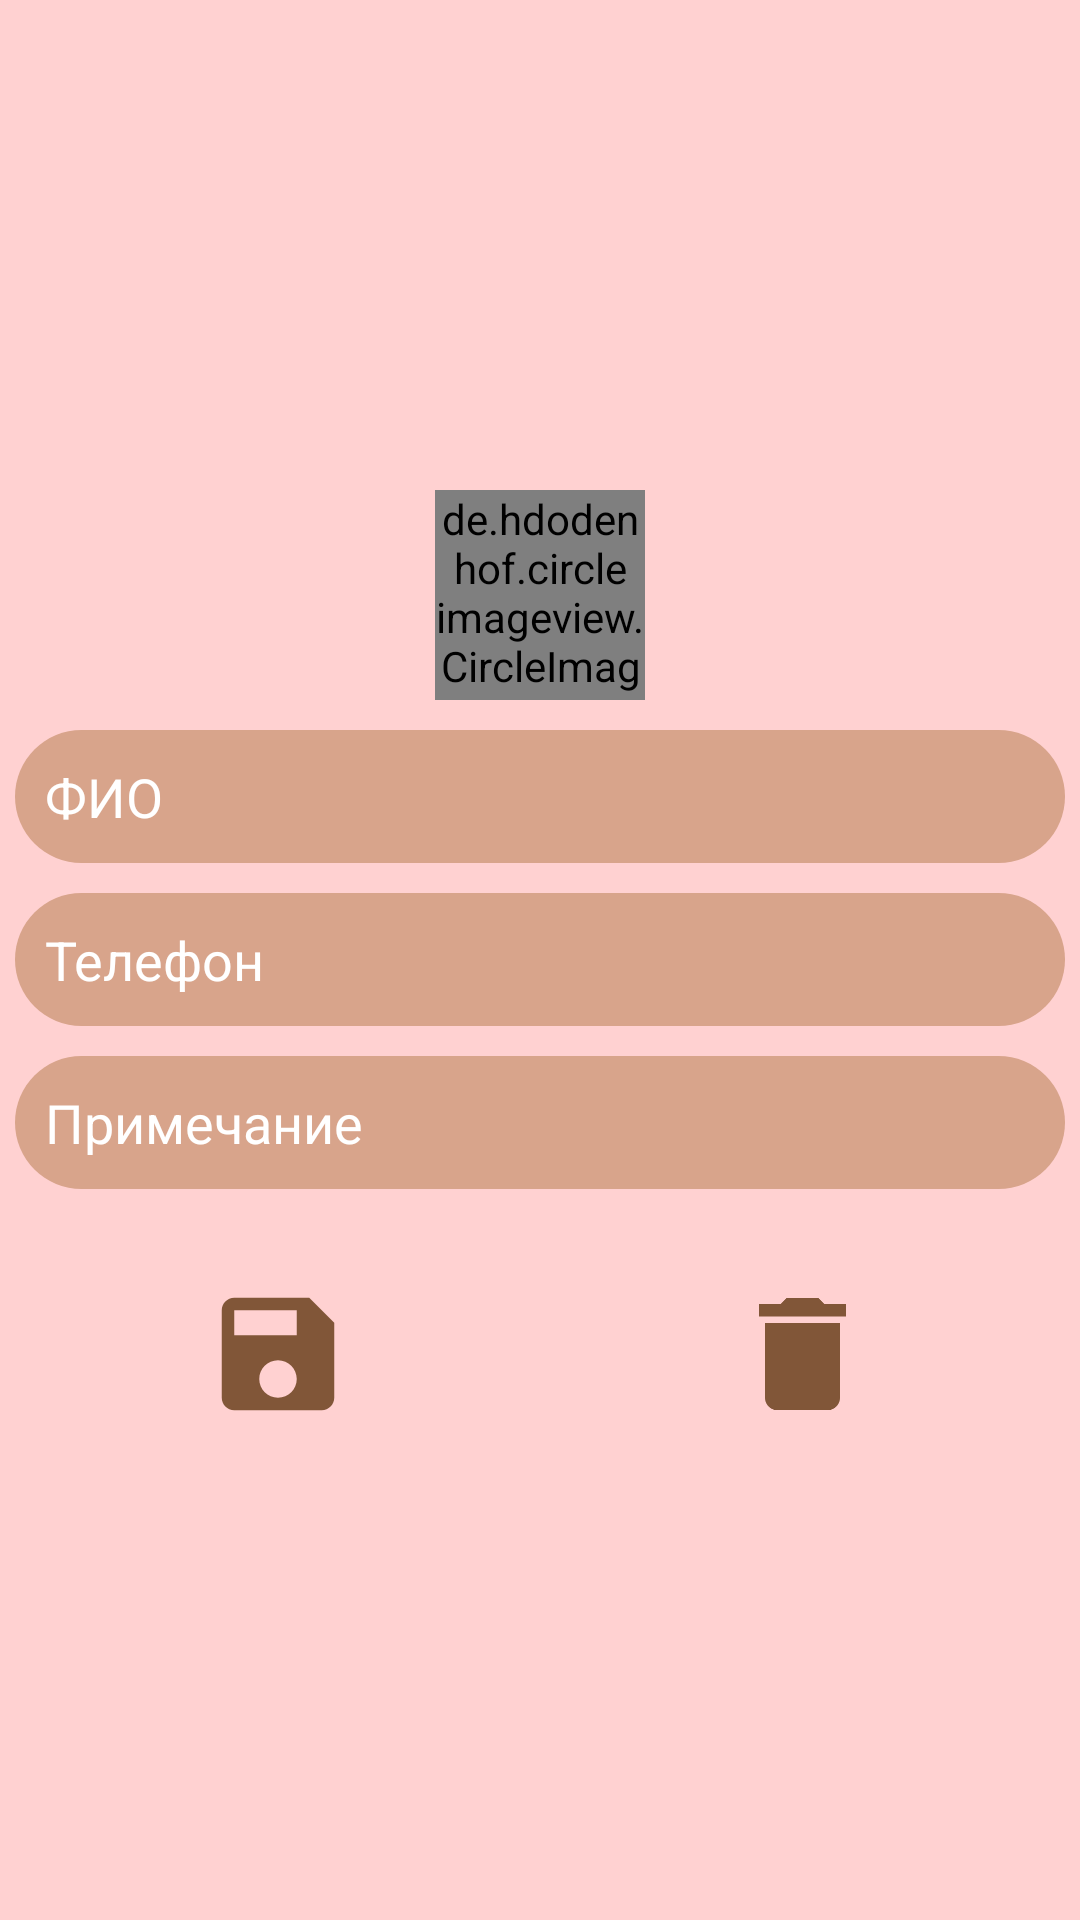

Icons on this 1080x1920 Android screen, each with its box as (x1, y1, x2, y2):
Сохранить: (221, 1297, 335, 1411)
Удалить: (759, 1298, 846, 1410)
